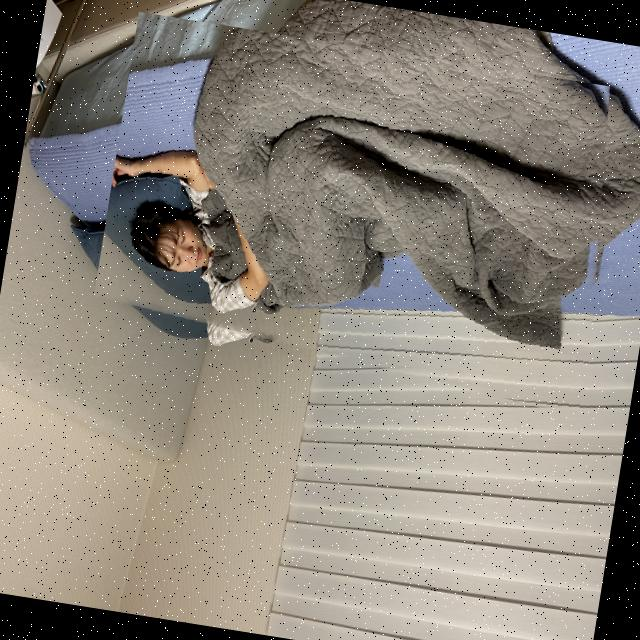people: (87, 12, 637, 419)
